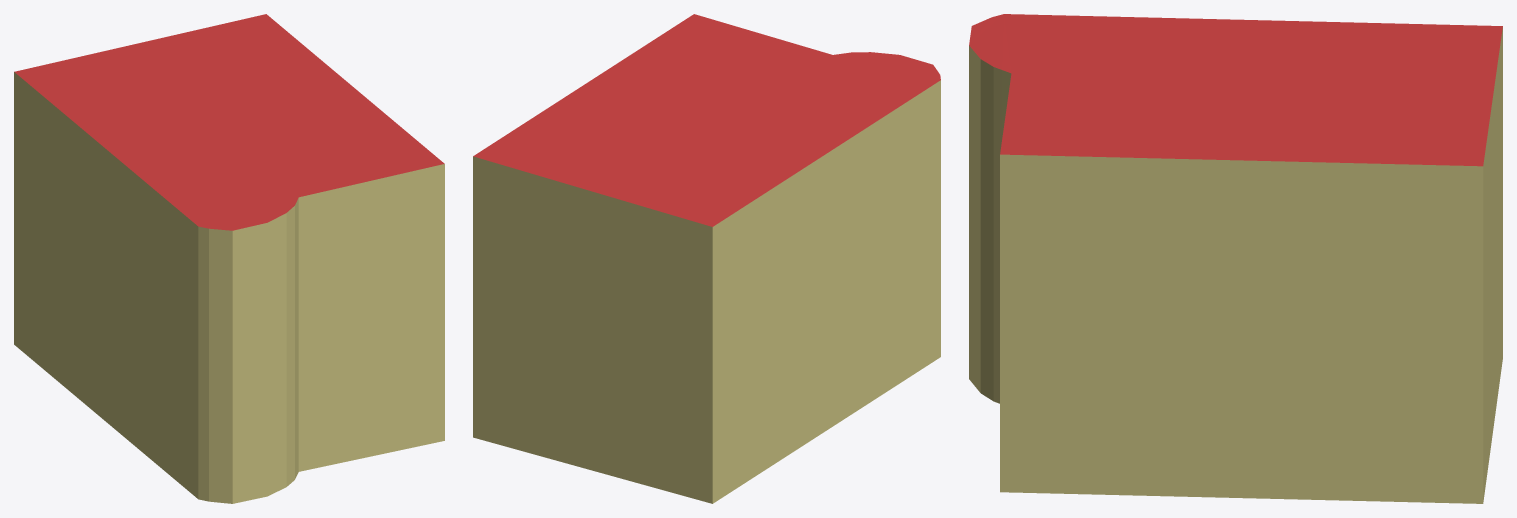
3 renders of one model, left to right at view 1: azimuth 30°, elevation 25°; view 2: azimuth 150°, elevation 25°; view 3: azimuth 270°, elevation 25°, orthographic. The views are drawn at different scales.
Bounding box in the file's own units: 7.38 × 10.58 × 7.38.
